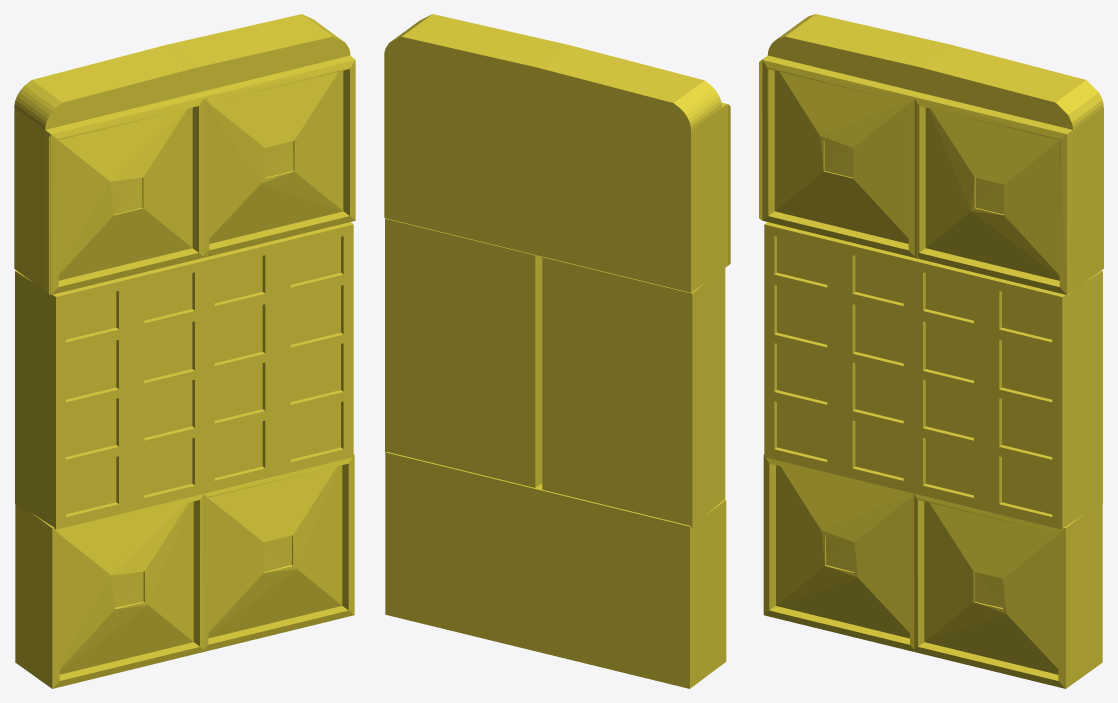
Rendered from JanelaComEspelho.Low.fbx.
3 views of the same model, side by side, from view 1: azimuth 30°, elevation 25°; view 2: azimuth 150°, elevation 25°; view 3: azimuth 330°, elevation 25° (orthographic).
Visible parts, largest first — view 1: JanelaComEspelho.Low; view 2: JanelaComEspelho.Low; view 3: JanelaComEspelho.Low.
Part boxes in pixels (<box>): JanelaComEspelho.Low: <box>14,14,355,688</box>; JanelaComEspelho.Low: <box>384,14,730,688</box>; JanelaComEspelho.Low: <box>759,14,1103,688</box>.
Size of the model in its own units: 135 by 243 by 28.75.
